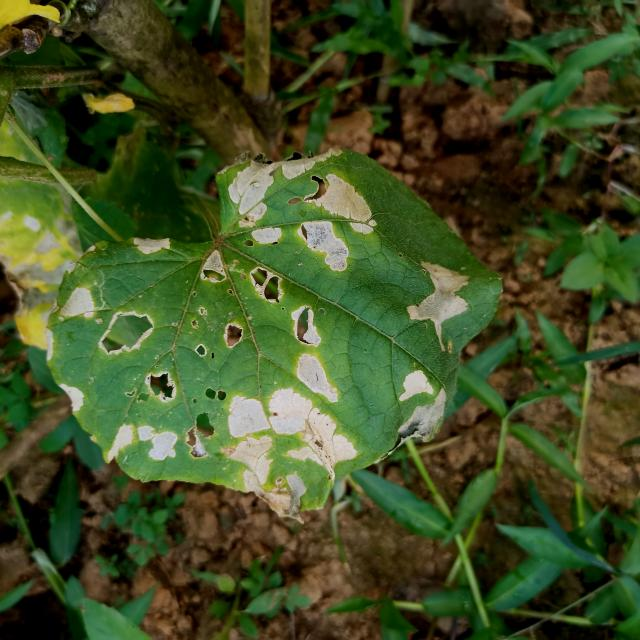disease_cucumber: (72, 148, 477, 504)
